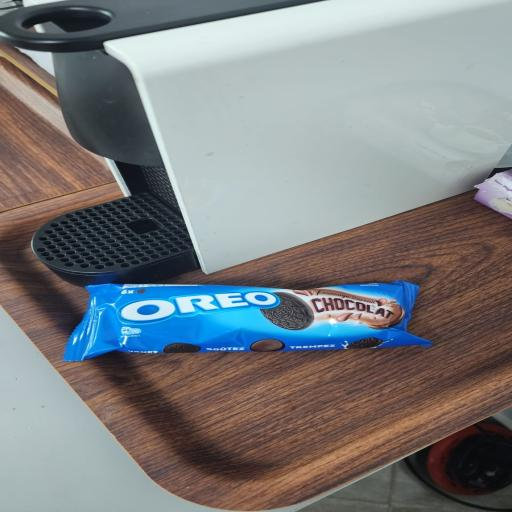oreo: (37, 228, 472, 390)
